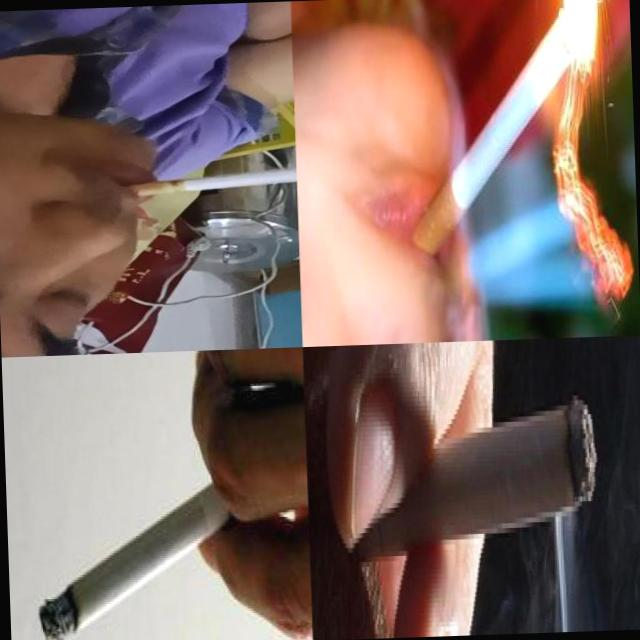cigarette: (342, 394, 600, 564), (402, 28, 575, 268), (34, 480, 245, 640), (116, 163, 297, 199)
